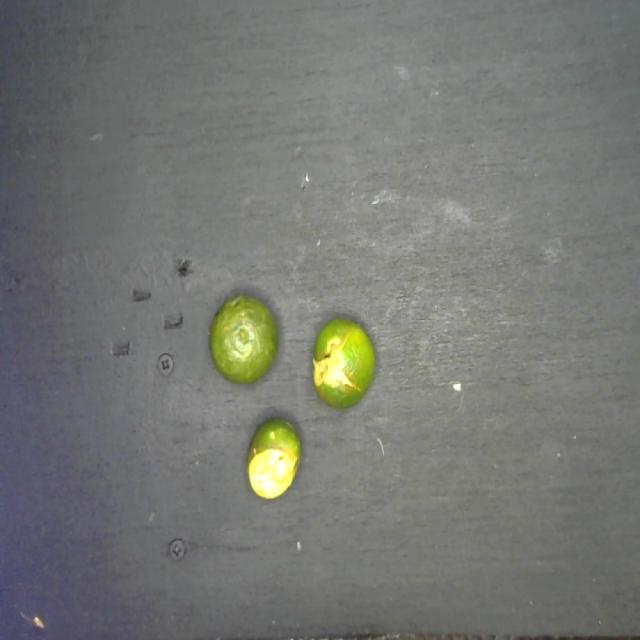biodegradable: (205, 287, 384, 514)
